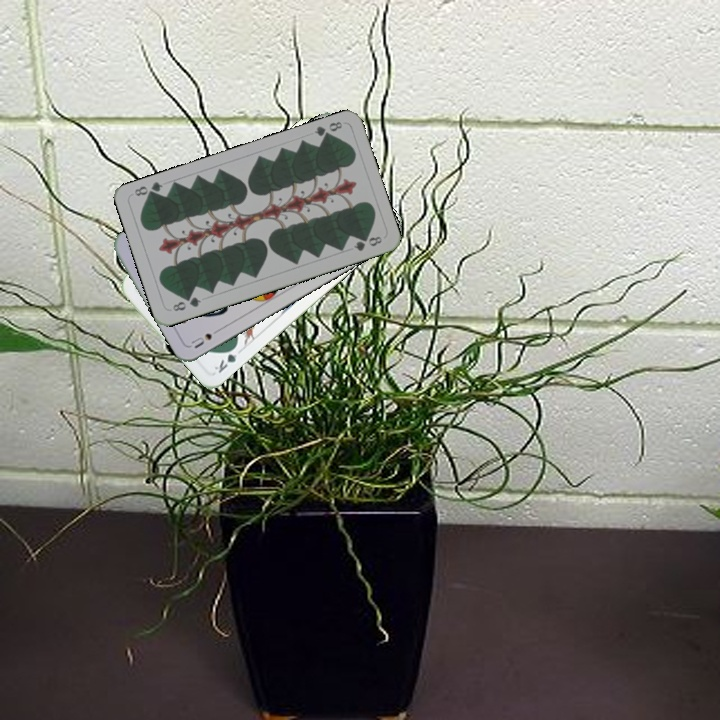G8: (310, 117, 345, 142), (168, 293, 203, 314)
GK: (210, 341, 240, 376)
SU: (186, 324, 224, 351)
